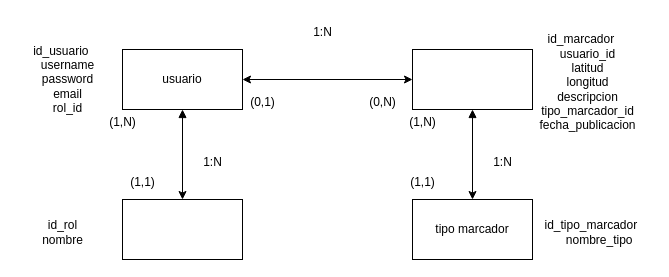
Image size: 669x277. Some labels were removed from this diagram. Each missing label, with the centre of its shape:
marcador: the point at 472,79
rol: the point at 182,229
